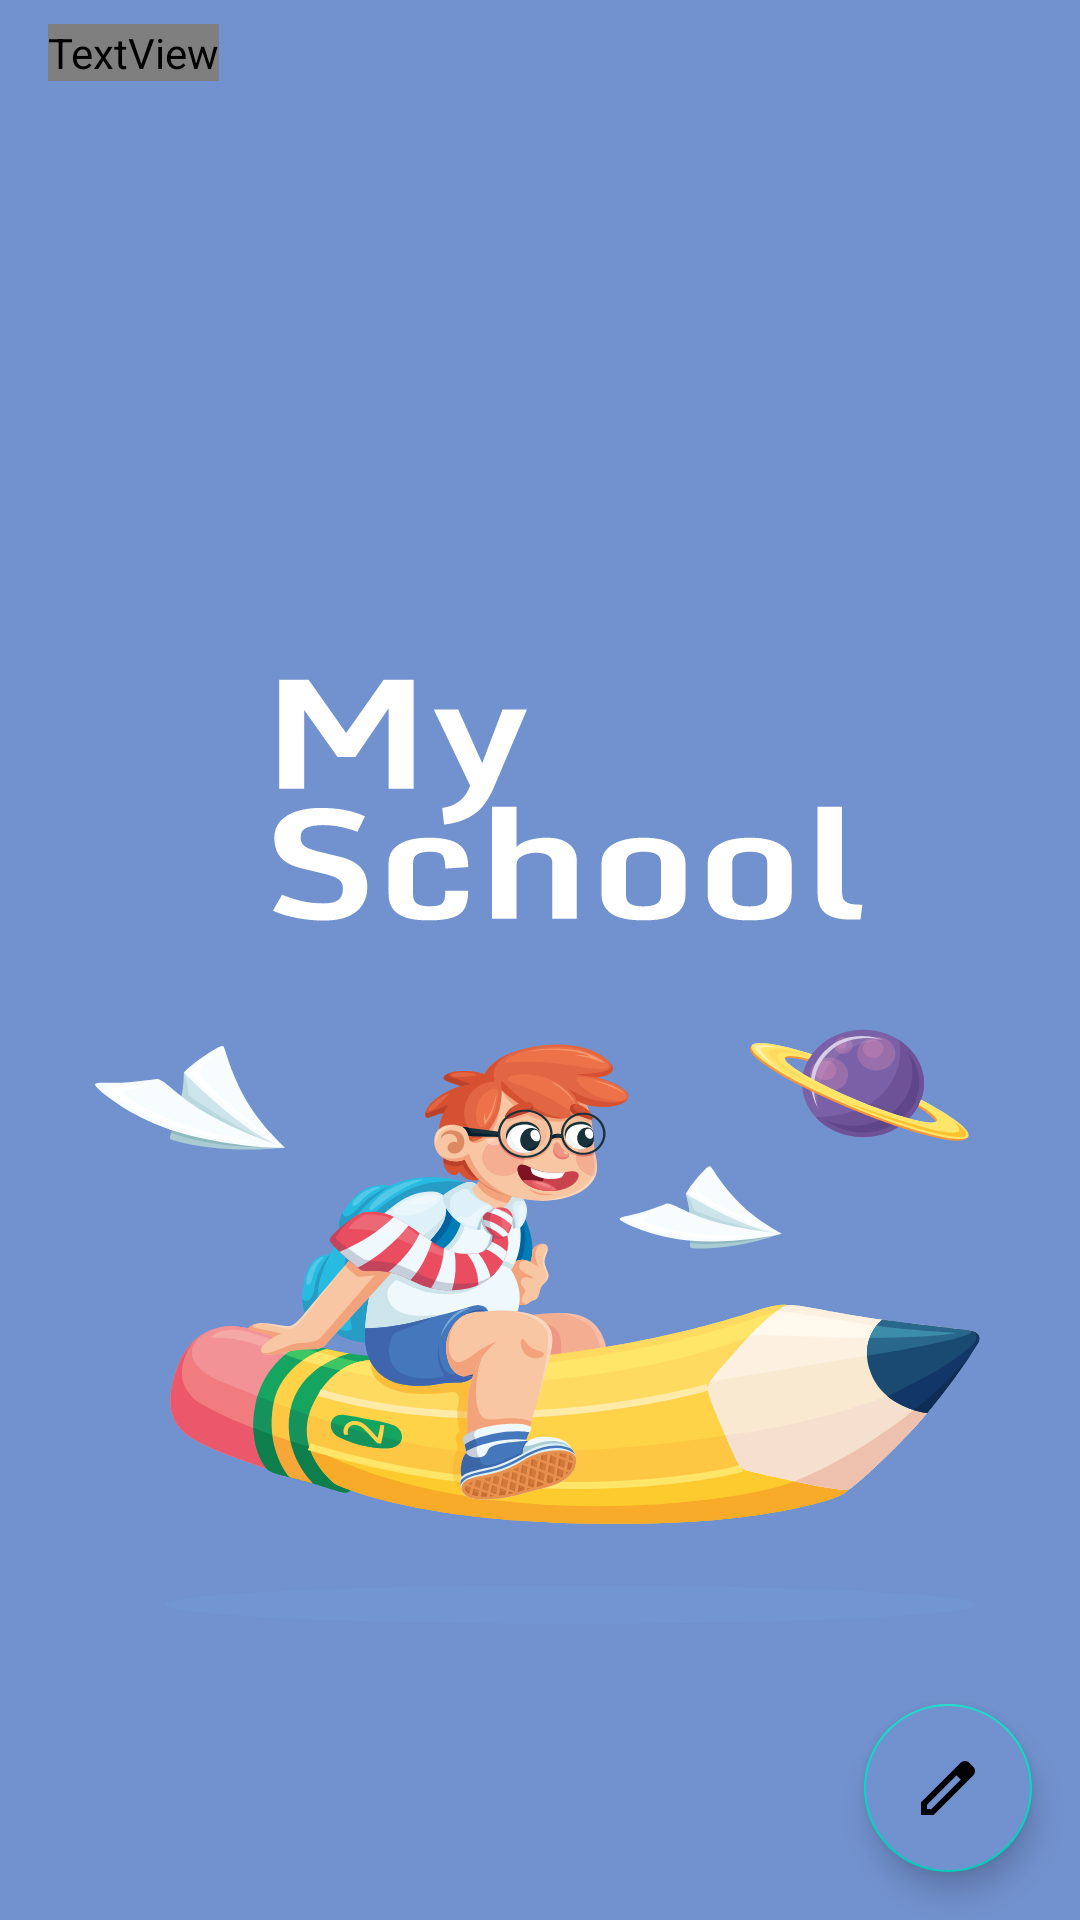

Named icons in this screenshot (1080×1920) and their centers, point (x, y):
create post: point (948, 1788)
